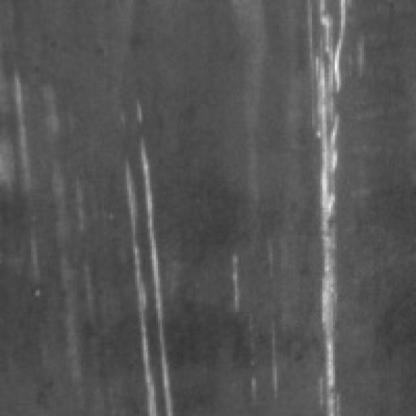scratches: (308, 0, 360, 412), (125, 98, 181, 414)
